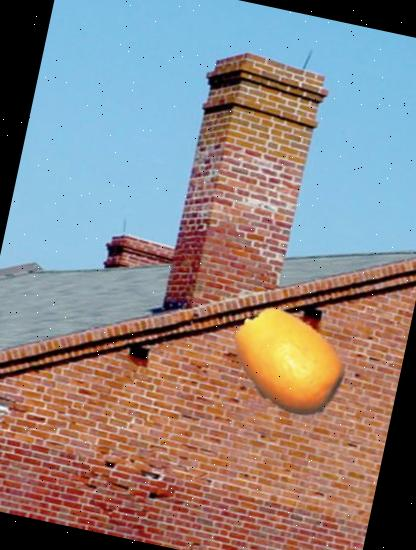Kumquats: (218, 290, 360, 432)
